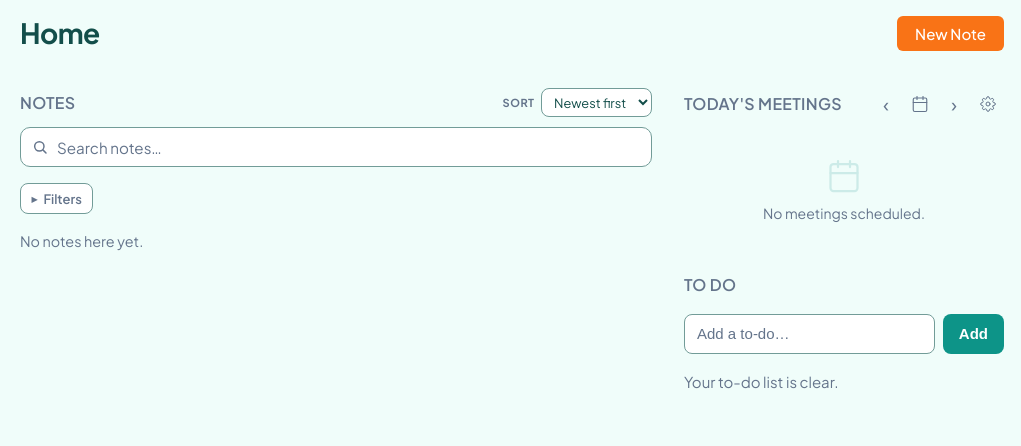
Test: ListView — home default window + date-range filter (40-A) › shows an empty state with a Clear filters action when a range matches nothing
This screenshot has width=1021, height=446.
Expected: the text "No notes here yet." is shown, top-left (20, 230), bottom-right (143, 253)
Expected: the button "clear filters" is not shown
What coordinates should you click on to do the following:
click the button "▸ Filters"
I would click on:
 (57, 199)
Its box is top-left (20, 183), bottom-right (93, 214).
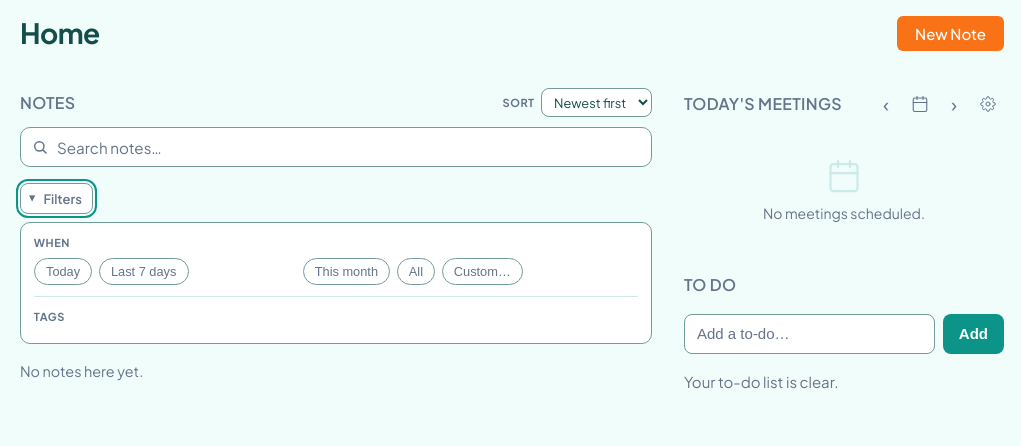
What coordinates should you click on to do the following:
click the button with test id "range-preset-today"
I would click on:
 (63, 271)
Its box is top-left (34, 258), bottom-right (92, 285).
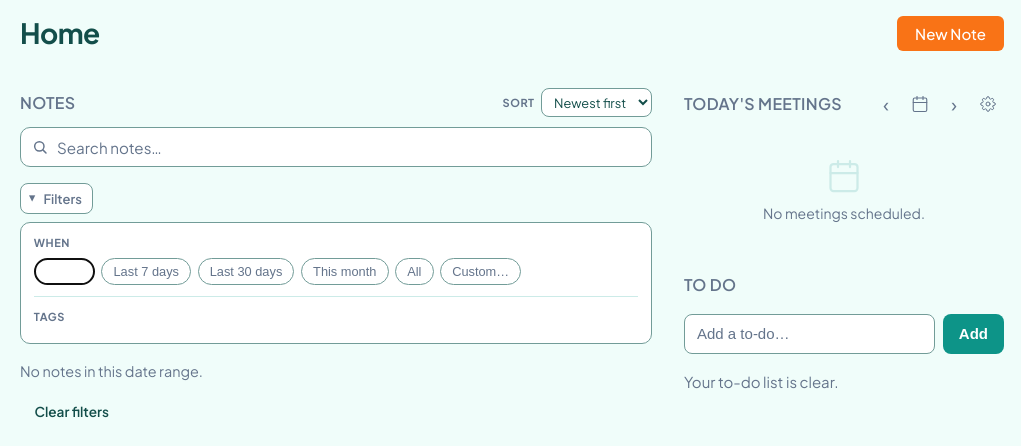
Expected: the text "No notes in this date range." is shown, top-left (20, 360), bottom-right (203, 383)
What coordinates should you click on to do the following:
click the button "Clear filters"
I would click on:
 (72, 412)
Its box is top-left (20, 394), bottom-right (123, 429).
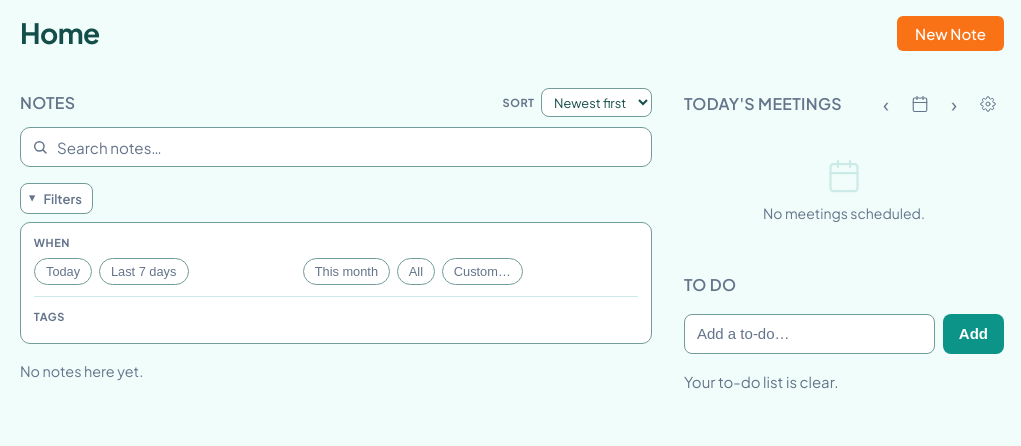
Expected: the text "No notes here yet." is shown, top-left (20, 360), bottom-right (143, 383)
